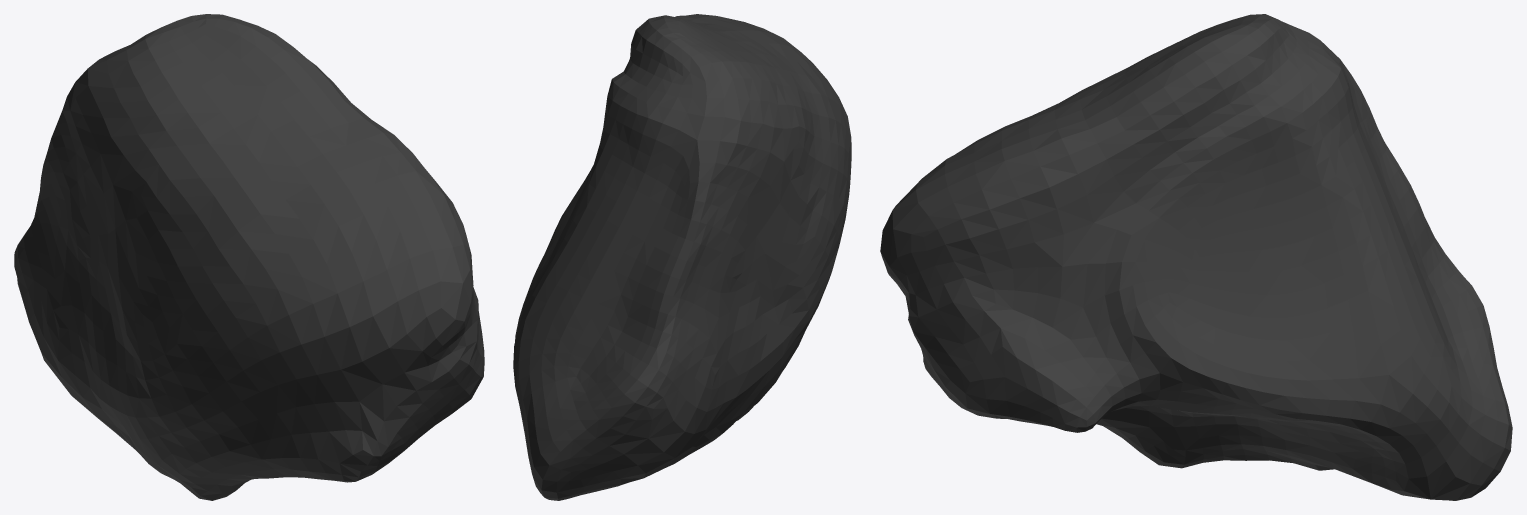
The model's file is Frontal_sinus_L_rostral.glb.
3 renders of one model, left to right at view 1: azimuth 30°, elevation 25°; view 2: azimuth 150°, elevation 25°; view 3: azimuth 270°, elevation 25°, orthographic. The views are drawn at different scales.
Parts seen in each view (by area): view 1: Frontal_sinus_L_rostral; view 2: Frontal_sinus_L_rostral; view 3: Frontal_sinus_L_rostral.
Part boxes in pixels (box(x1,y1,x2,y2)): Frontal_sinus_L_rostral: box(14, 14, 484, 500); Frontal_sinus_L_rostral: box(513, 14, 851, 500); Frontal_sinus_L_rostral: box(880, 14, 1512, 500).
Size of the model in its own units: 61.44 by 92.12 by 114.
Materials: 1 (1 with a texture image).
